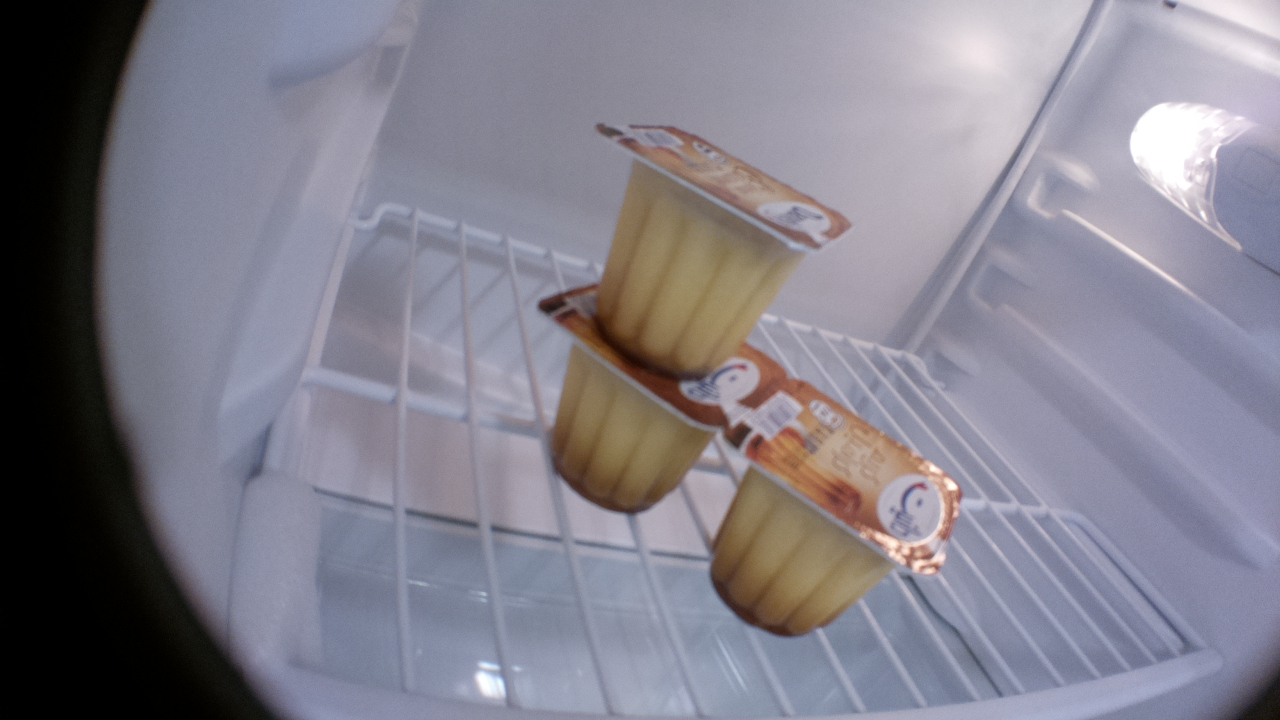caramel: (589, 117, 855, 384), (708, 384, 963, 641), (533, 292, 754, 512)
